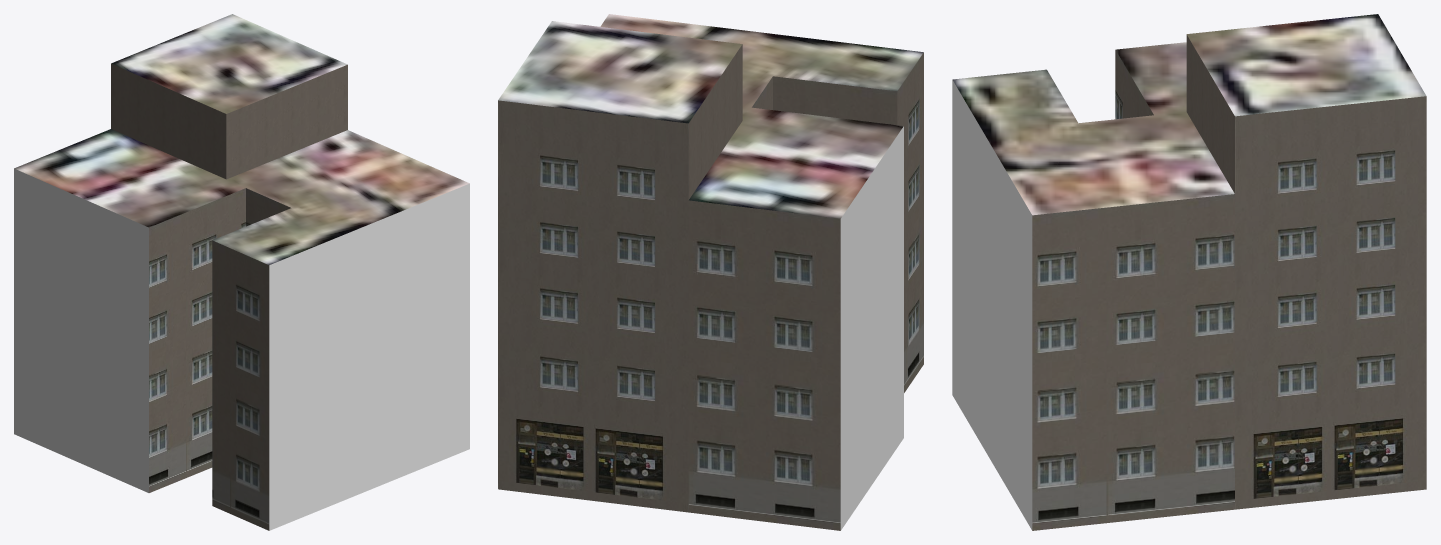
File: Building011.dae
The picture shows the model from 3 angles, left to right: view 1: azimuth 30°, elevation 25°; view 2: azimuth 150°, elevation 25°; view 3: azimuth 270°, elevation 25°; orthographic projection. The views are drawn at different scales.
Parts seen in each view (by area): view 1: SketchUp (×6); view 2: SketchUp (×7); view 3: SketchUp (×7).
Boxes of the visible parts, x1,y1,x2,y2 form: SketchUp (×6): (14,14,469,530); SketchUp (×7): (498,14,923,530); SketchUp (×7): (952,14,1426,530).
Bounding box in the file's own units: 905 × 958 × 877.
Materials: 5 (4 with a texture image).
